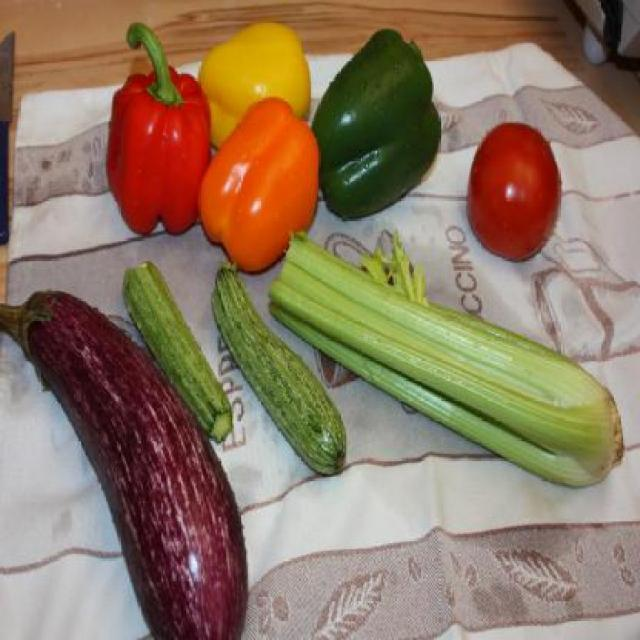Zucchini: (207, 256, 350, 475), (123, 257, 235, 445)
